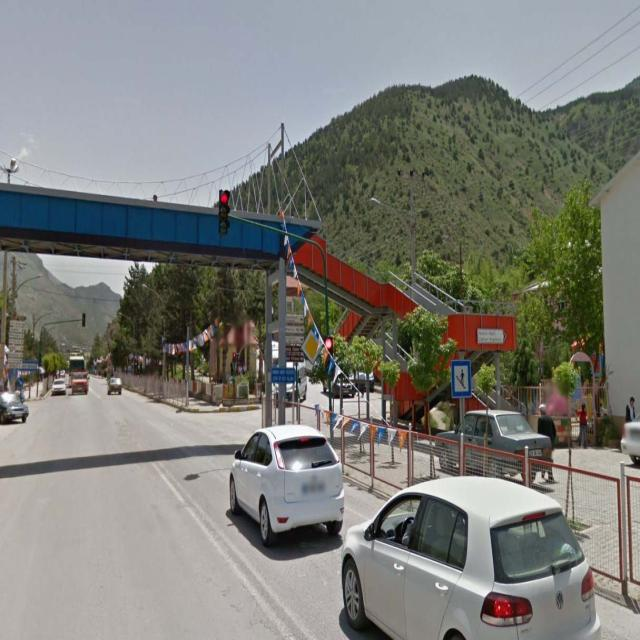kirmizi: (220, 190, 228, 232)
